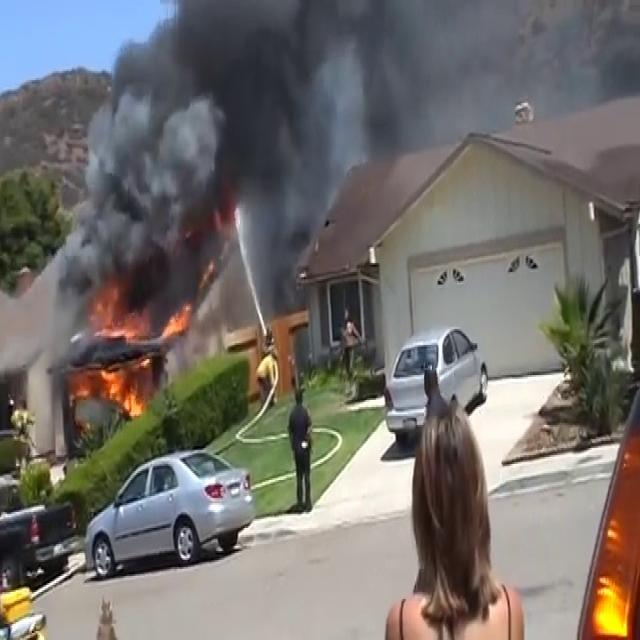Fire: (82, 283, 148, 425)
Smoke: (45, 0, 415, 292), (0, 249, 76, 439)
